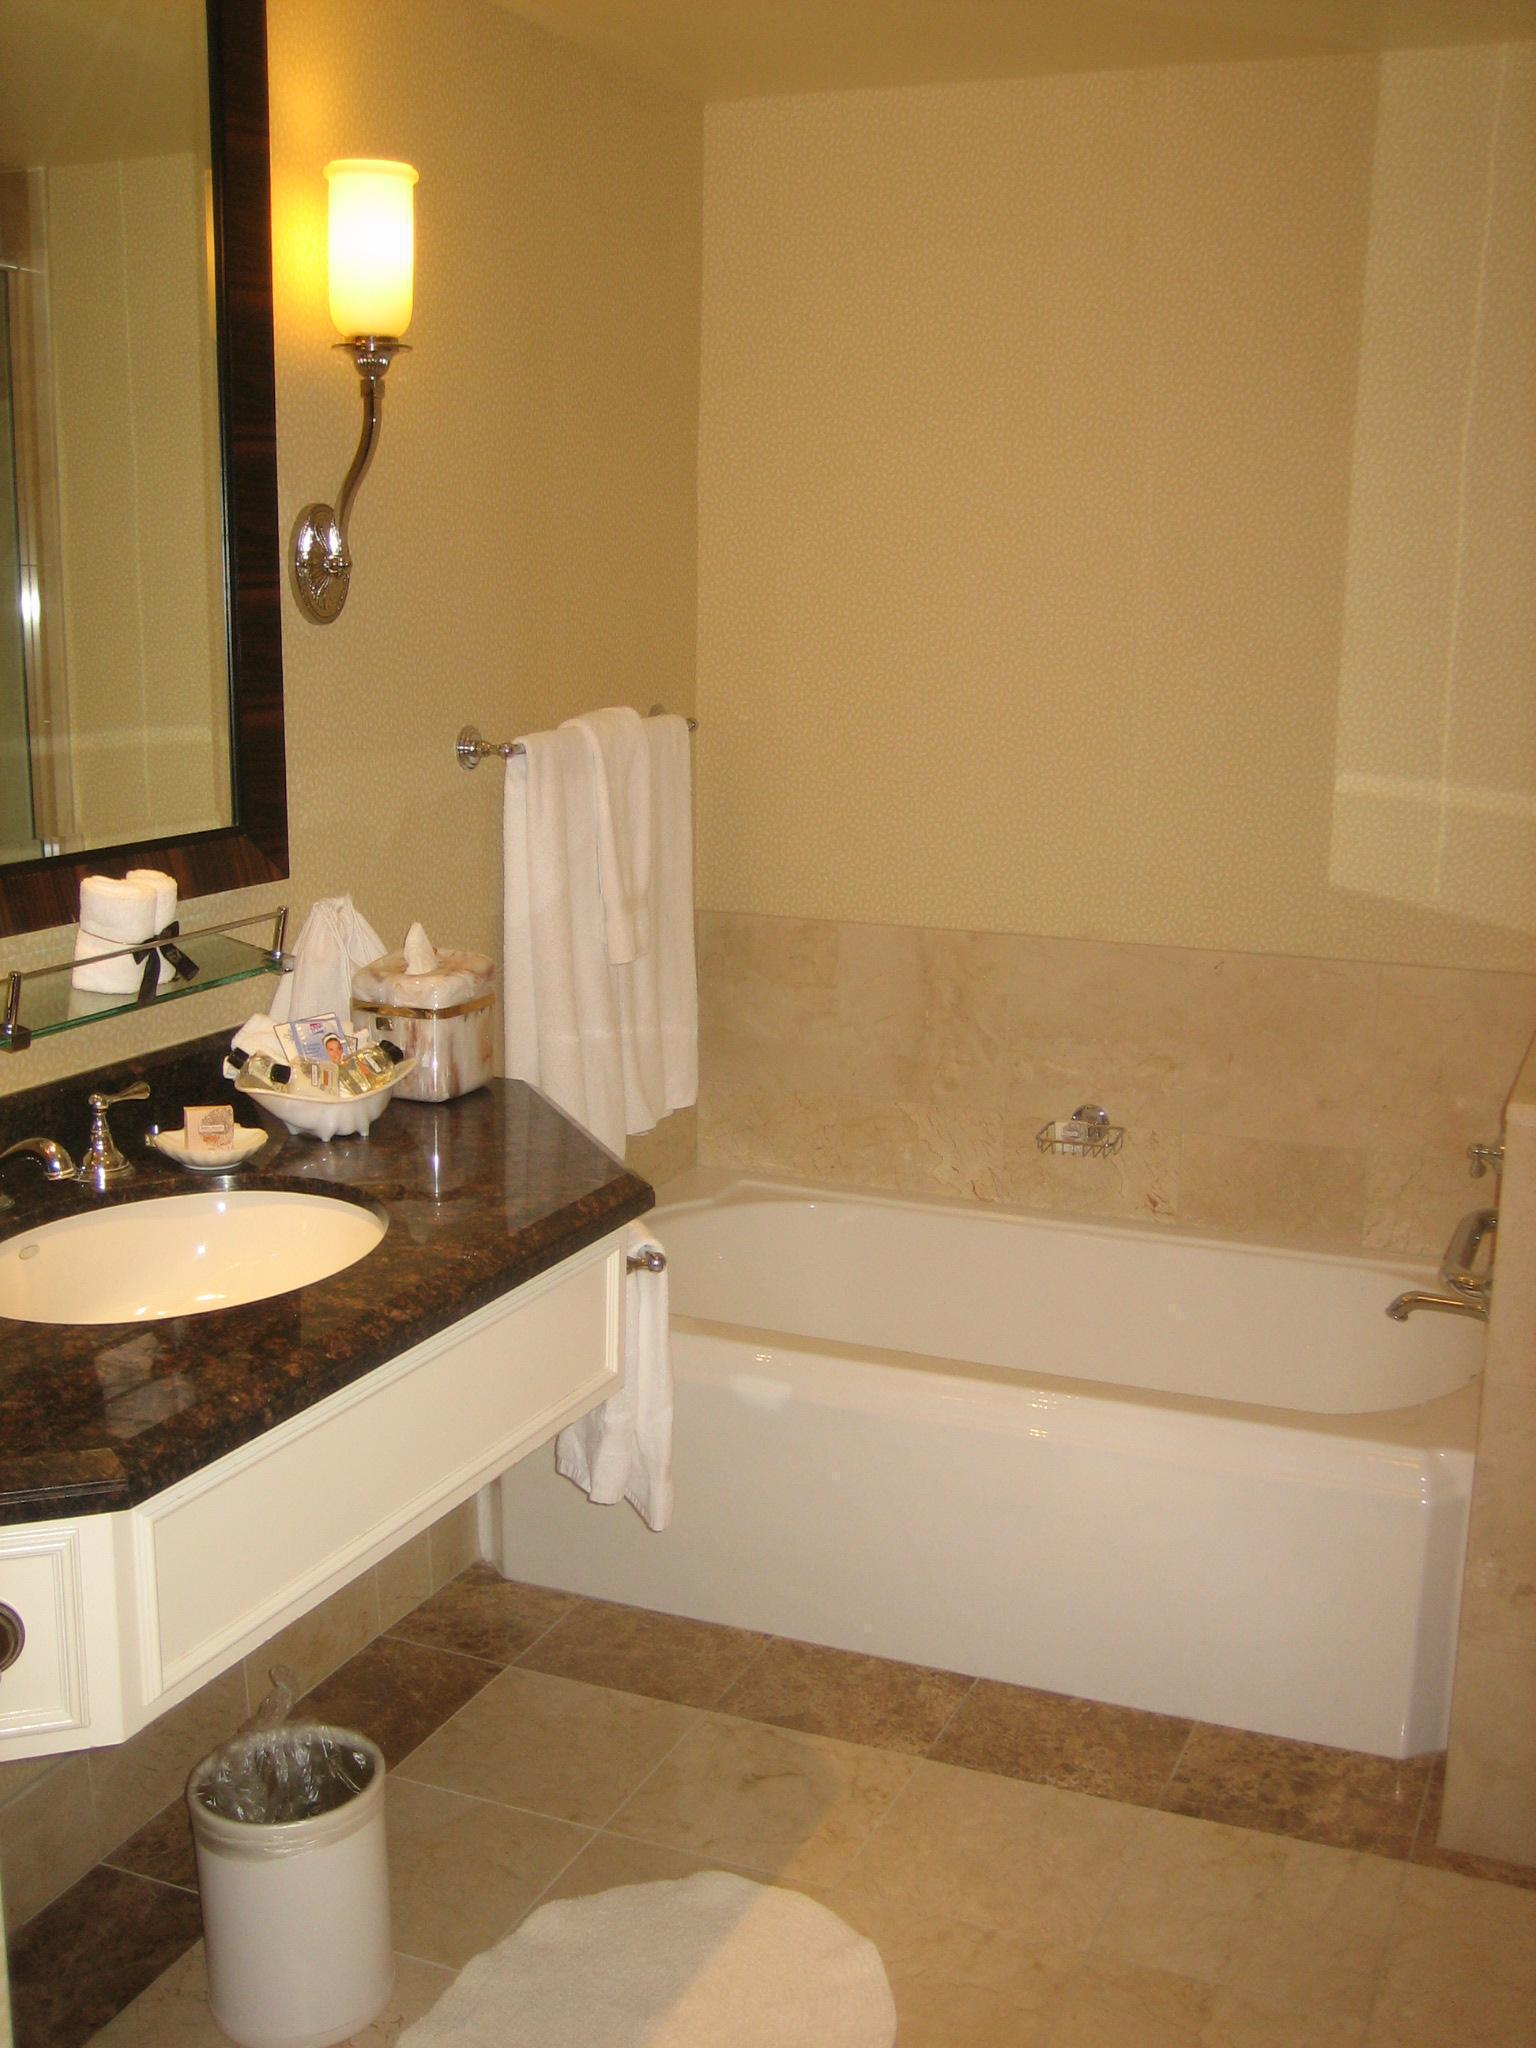Bote de Basura: (189, 1721, 399, 2016)
Lavamanos: (29, 1071, 432, 1364)
